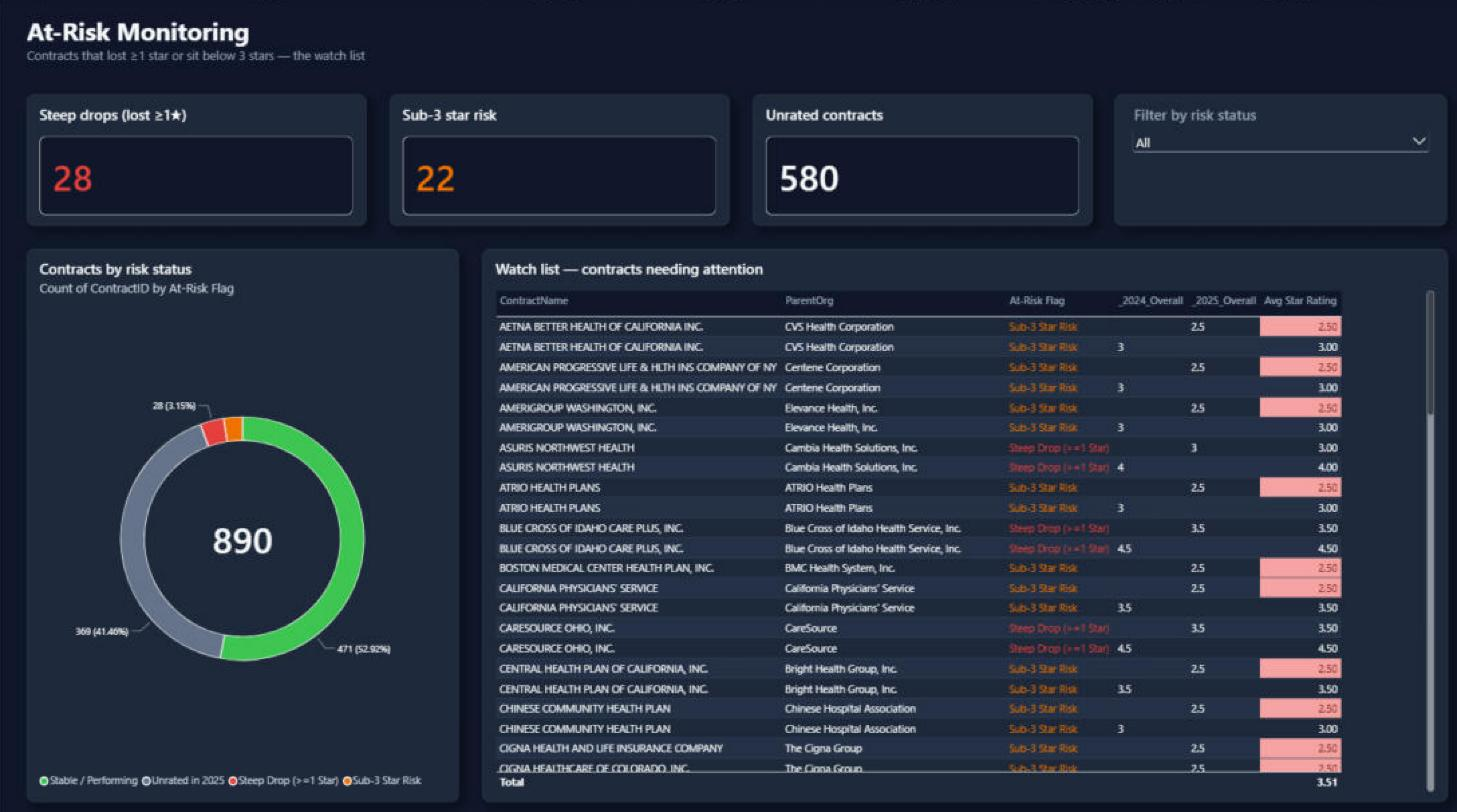

Layout of this report page (visuals, bound fields, positions):
{"tool":"powerbi","page":{"name":"At-Risk Monitoring","canvas":[1920,1080],"ordinal":2},"visuals":[{"type":"textbox","box":[40,20,1300,84],"z":100},{"type":"cardVisual","title":"Steep drops (lost ≥1★)","fields":{"Data":["CountNonNull(DimContract.ContractID)"]},"box":[40,124,440,170],"z":200},{"type":"cardVisual","title":"Sub-3 star risk","fields":{"Data":["CountNonNull(DimContract.ContractID)"]},"box":[510,124,440,170],"z":200},{"type":"cardVisual","title":"Unrated contracts","fields":{"Data":["_Measures.Unrated Contracts"]},"box":[980,124,440,170],"z":200},{"type":"slicer","fields":{"Values":["DimContract.At-Risk Flag"]},"box":[1450,124,430,170],"z":300},{"type":"donutChart","title":"Contracts by risk status","fields":{"Category":["DimContract.At-Risk Flag"],"Y":["CountNonNull(DimContract.ContractID)"]},"box":[40,324,560,716],"z":400},{"type":"tableEx","title":"Watch list — contracts needing attention","fields":{"Values":["DimContract.ContractName","DimContract.ParentOrg","DimContract.At-Risk Flag","FactRatings._2024_Overall","FactRatings._2025_Overall","_Measures.Avg Star Rating"]},"box":[630,324,1250,716],"z":500}]}

Visuals, with their boxes in screenshot pixels (x1, y1, x2, y2), scaled from the page's 1920x1080 canvas onto the 1457x812 screenshot:
textbox: {"left": 30, "top": 15, "right": 1017, "bottom": 78}
"Steep drops (lost ≥1★)" cardVisual: {"left": 30, "top": 93, "right": 364, "bottom": 221}
"Sub-3 star risk" cardVisual: {"left": 387, "top": 93, "right": 721, "bottom": 221}
"Unrated contracts" cardVisual: {"left": 744, "top": 93, "right": 1078, "bottom": 221}
slicer - DimContract.At-Risk Flag: {"left": 1100, "top": 93, "right": 1427, "bottom": 221}
"Contracts by risk status" donutChart: {"left": 30, "top": 244, "right": 455, "bottom": 782}
"Watch list — contracts needing attention" tableEx: {"left": 478, "top": 244, "right": 1427, "bottom": 782}
